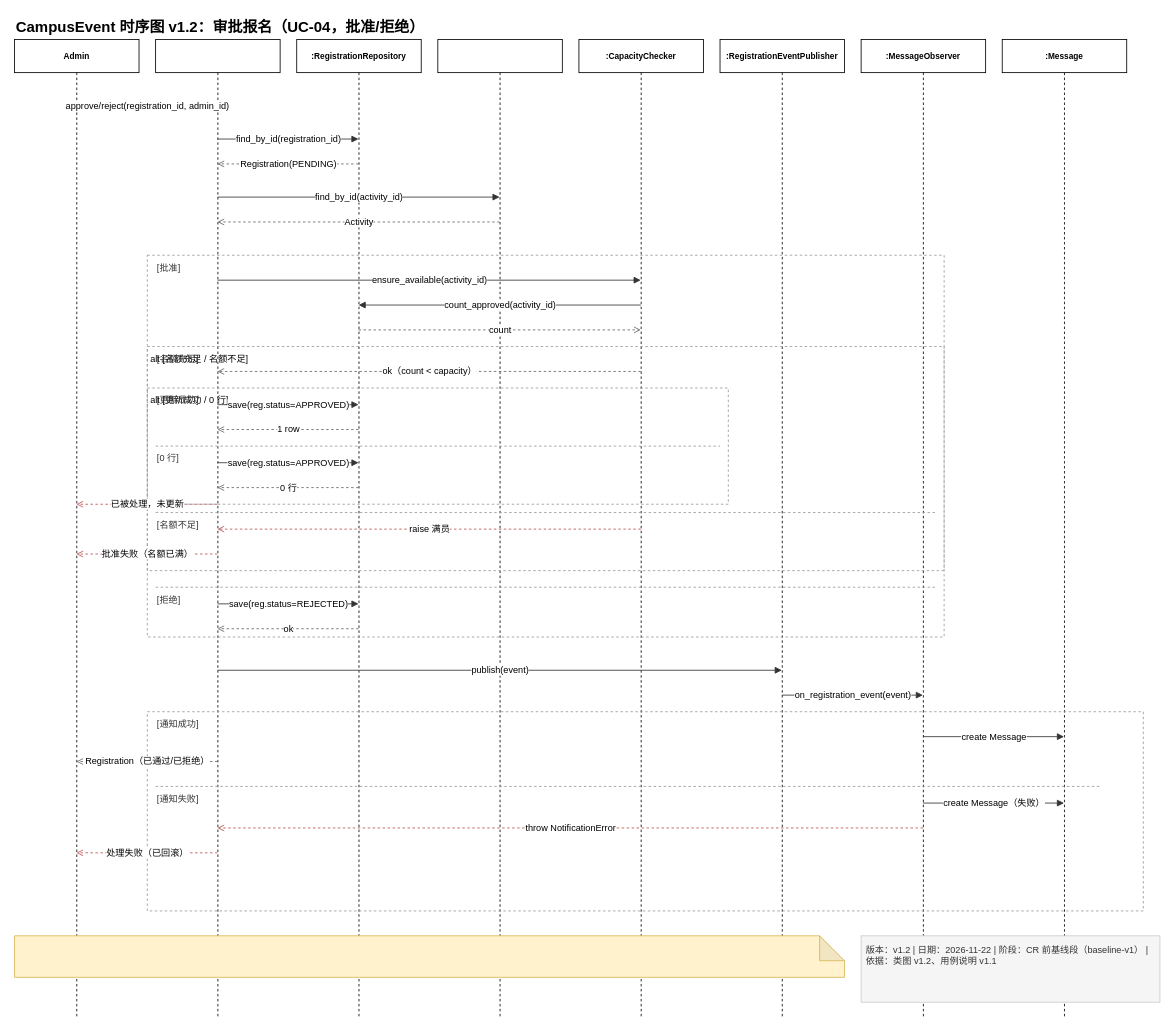
Image size: 1174x1033. Some labels were removed from this diagram. Each missing label, with the box of its shape:
:ActivityRepository: (437, 39, 562, 1019)
:RegistrationService: (155, 39, 280, 1019)
alt [批准 / 拒绝]: (146, 254, 944, 637)
alt [通知成功 / 通知失败]: (146, 711, 1143, 911)
批准：名额检查 → 条件更新（1 行/0 行）；拒绝不查容量。通知失败 → 回滚（Q-04）。save 的 0 行表示已被处理（Q-05）。: (14, 935, 845, 977)
